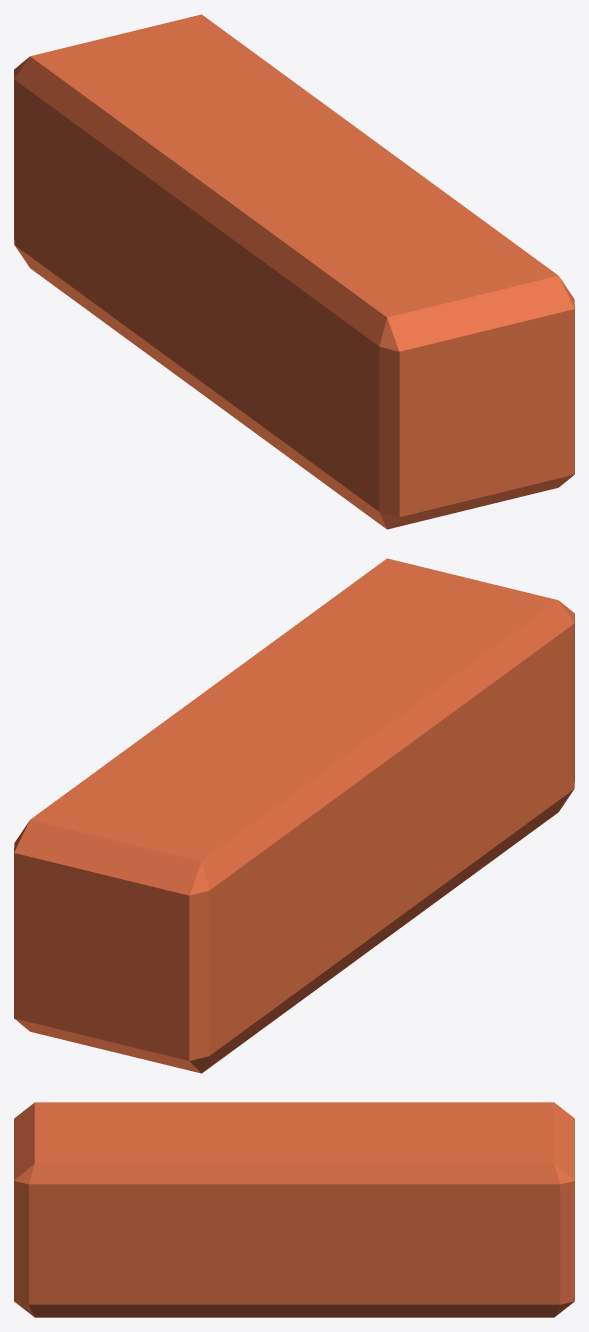
The model's file is BloqueNaranja2.fbx.
3 views of the same model, one above another, from view 1: azimuth 30°, elevation 25°; view 2: azimuth 150°, elevation 25°; view 3: azimuth 270°, elevation 25° (orthographic). The views are drawn at different scales.
Parts seen in each view (by area): view 1: Cube; view 2: Cube; view 3: Cube.
Part boxes in pixels (box(x1,y1,x2,y2)): Cube: box(14, 14, 574, 529); Cube: box(14, 558, 574, 1073); Cube: box(14, 1102, 574, 1317).
Bounding box in the file's own units: 111 × 115 × 380.
